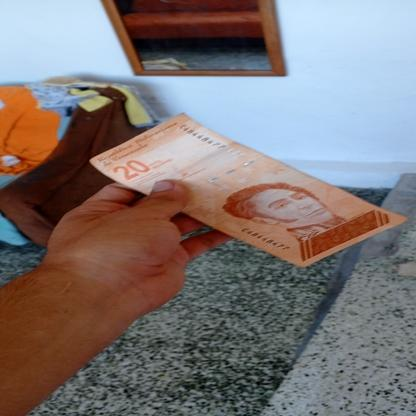twenty-front-vef: (88, 112, 407, 268)
